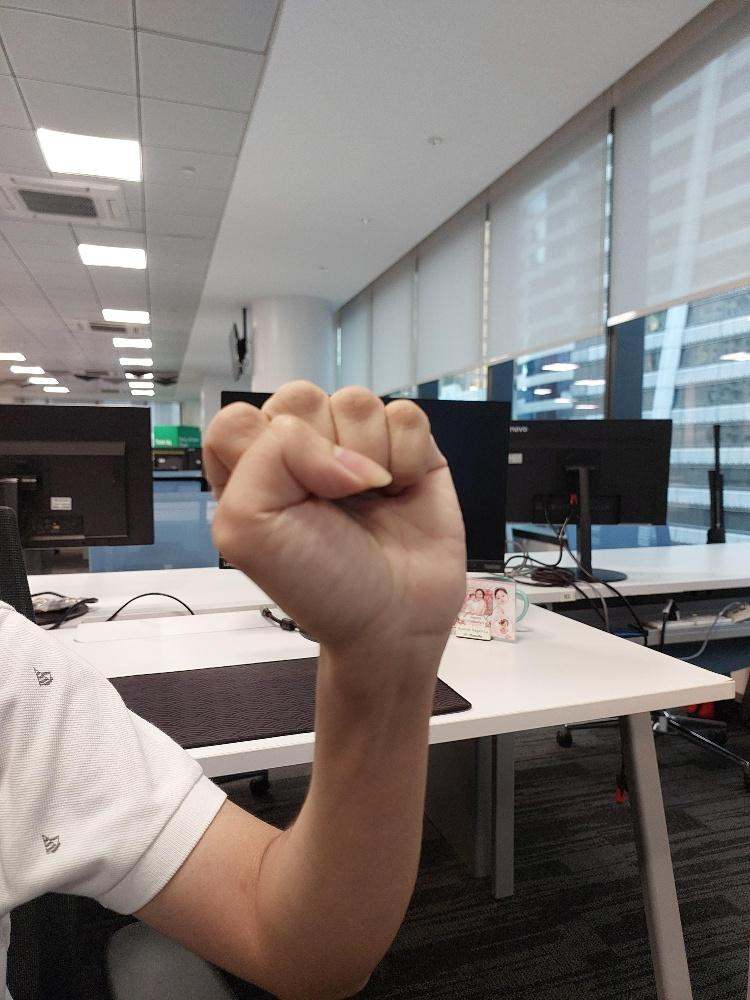s: (199, 374, 471, 649)
